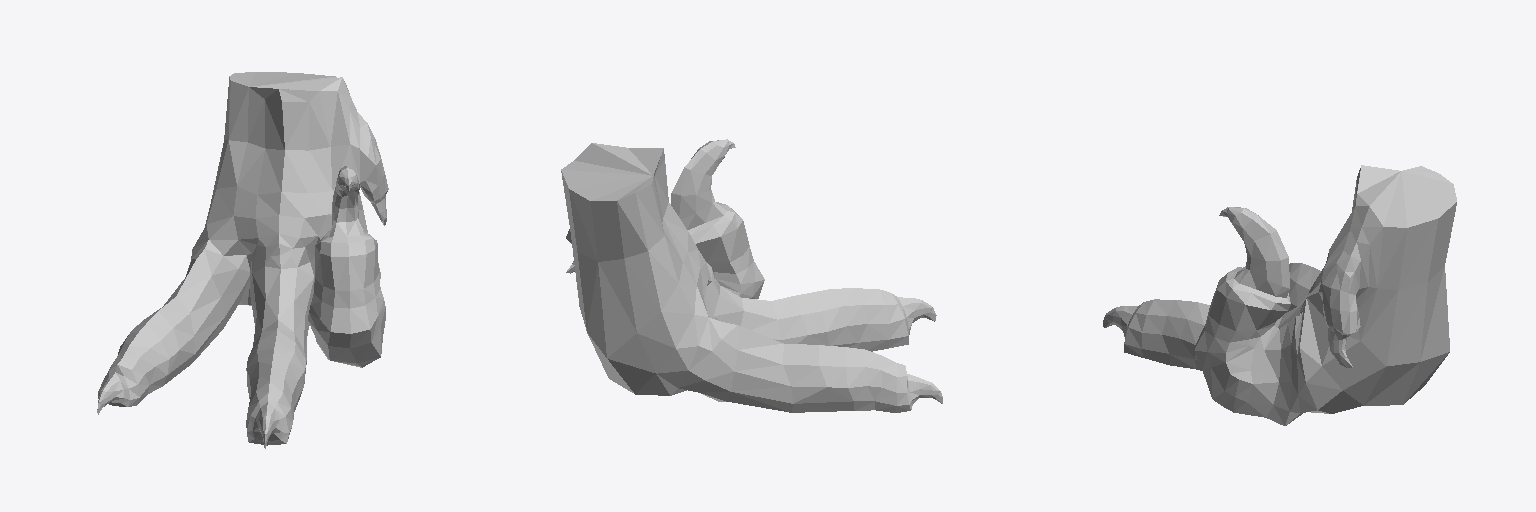
Rendered from pieIzq3.obj.
3 views of the same model, side by side, from view 1: azimuth 30°, elevation 25°; view 2: azimuth 150°, elevation 25°; view 3: azimuth 270°, elevation 25° (orthographic).
Parts seen in each view (by area): view 1: polySurface8 polySurface7 polySurface5 polySurface2 Mesh; view 2: polySurface8 polySurface7 polySurface5 polySurface2 Mesh; view 3: polySurface8 polySurface7 polySurface5 polySurface2 Mesh.
Boxes of the visible parts, <box> form: polySurface8 polySurface7 polySurface5 polySurface2 Mesh: <box>97,72,388,448</box>; polySurface8 polySurface7 polySurface5 polySurface2 Mesh: <box>561,139,942,412</box>; polySurface8 polySurface7 polySurface5 polySurface2 Mesh: <box>1103,165,1456,425</box>.
Bounding box in the file's own units: 0.3038 × 0.2116 × 0.2795.